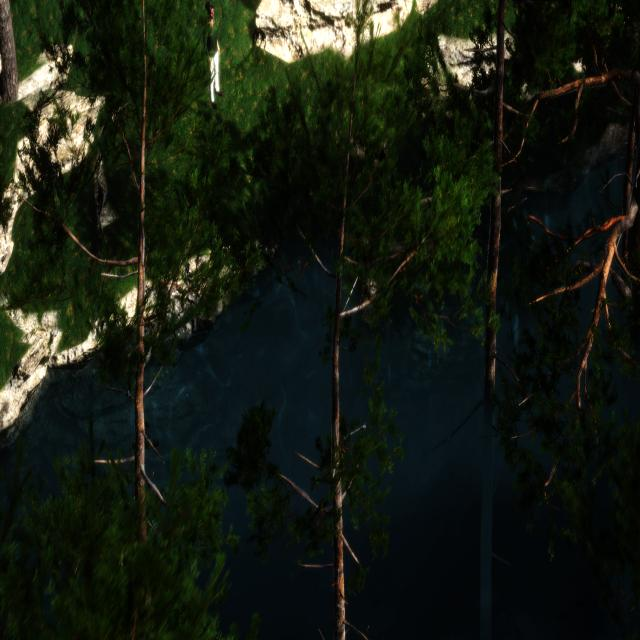Human: (200, 1, 223, 107)
